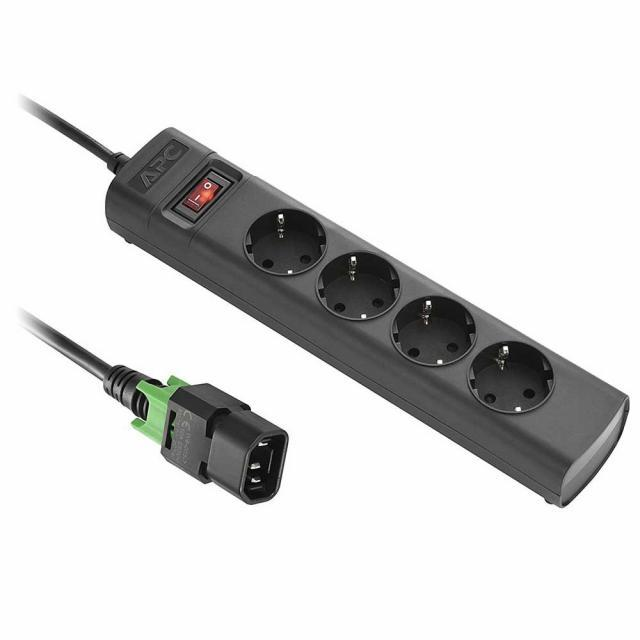typeb: (102, 110, 621, 420)
